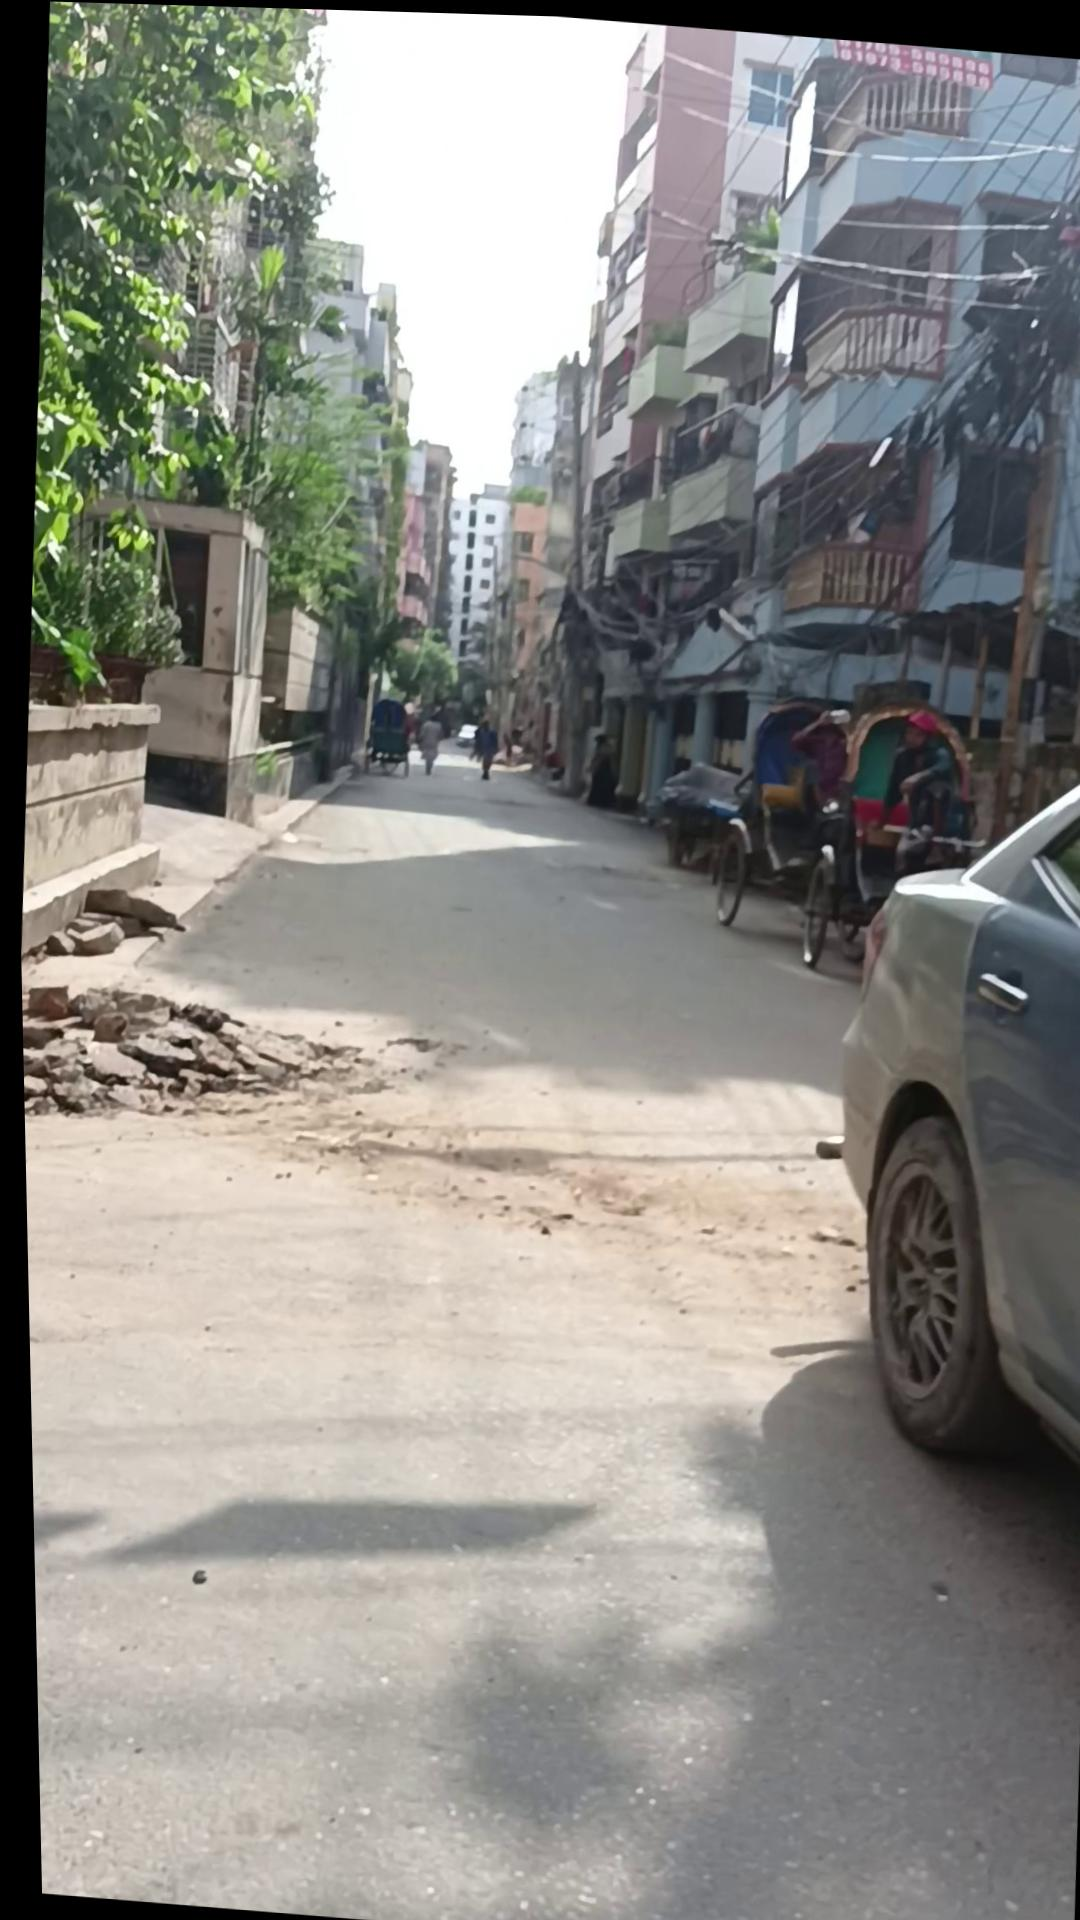Bench: (360, 723, 407, 775)
Car: (790, 735, 1080, 1465)
Crosswalk: (164, 741, 356, 939)
Motorcycle: (15, 829, 158, 967)
Muddy road: (870, 699, 957, 874), (578, 728, 616, 804), (464, 711, 496, 777), (410, 709, 440, 773)
Pothole: (696, 684, 853, 960)
Tree: (12, 687, 165, 964)
